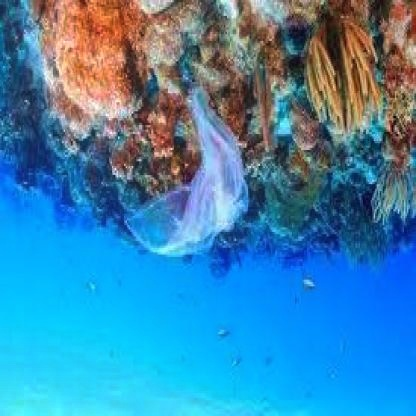pbag: (121, 86, 256, 264)
